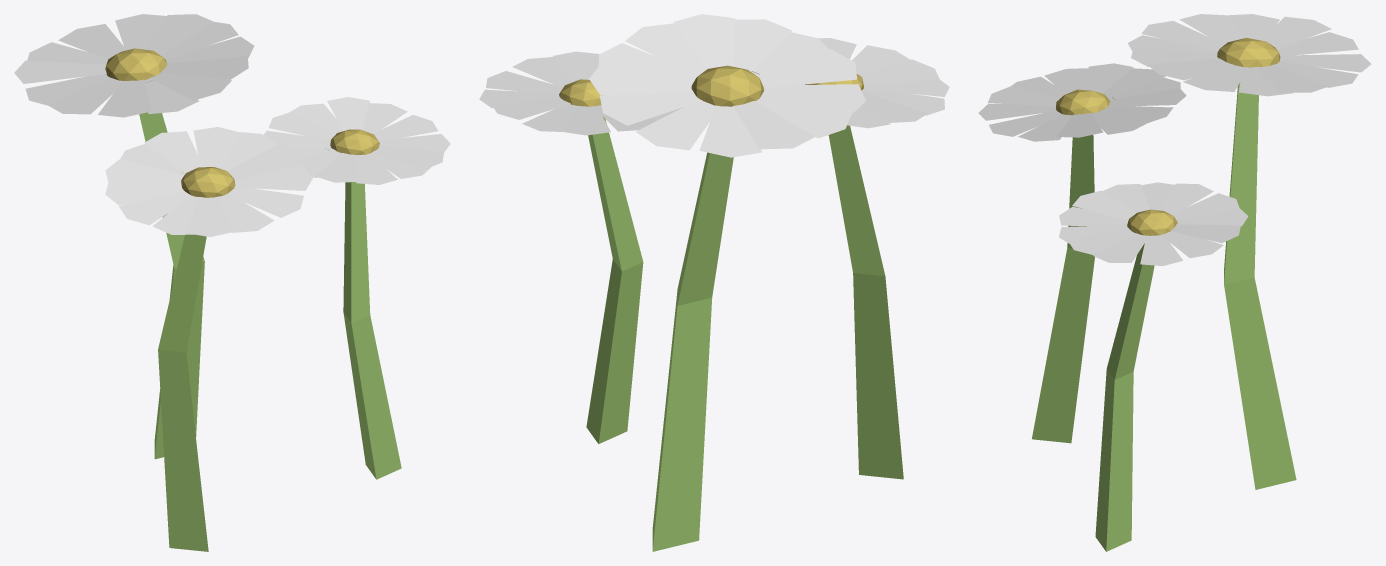
File: flower01.fbx
The picture shows the model from 3 angles, left to right: view 1: azimuth 30°, elevation 25°; view 2: azimuth 150°, elevation 25°; view 3: azimuth 270°, elevation 25°; orthographic projection. The views are drawn at different scales.
Parts seen in each view (by area): view 1: Flower01; view 2: Flower01; view 3: Flower01.
Boxes of the visible parts, box(x1,y1,x2,y2) form: Flower01: box(14, 14, 450, 551); Flower01: box(479, 14, 949, 551); Flower01: box(978, 14, 1371, 551).
Size of the model in its own units: 0.4275 by 0.473 by 0.4031.
